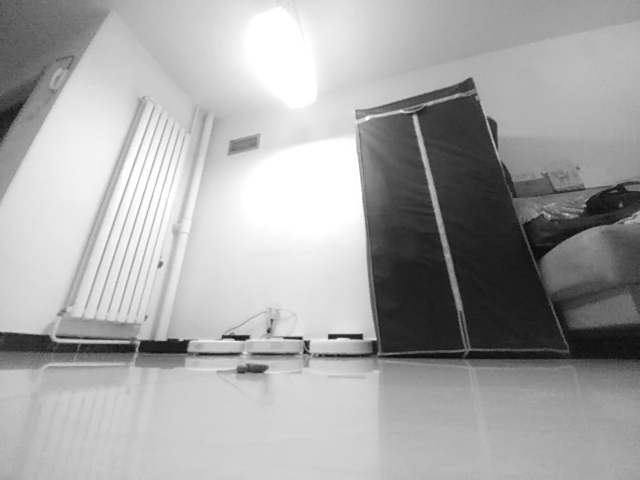pet feces: (235, 361, 270, 375)
